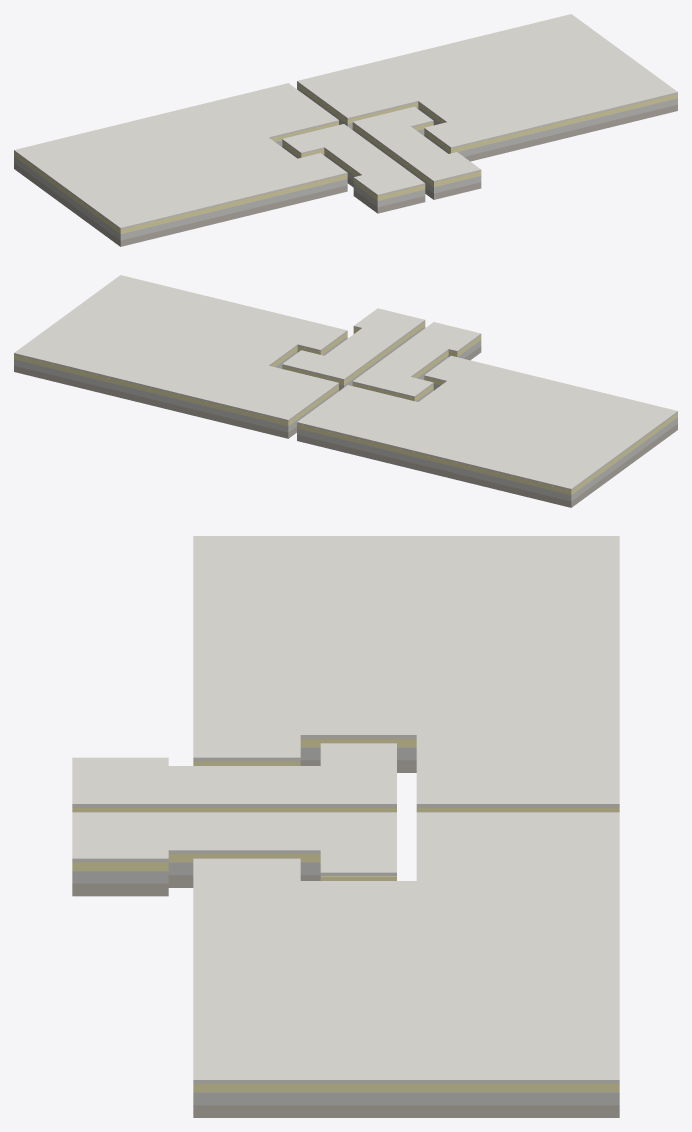
Rendered from stage-2.glb.
3 renders of one model, top to bottom at view 1: azimuth 30°, elevation 25°; view 2: azimuth 150°, elevation 25°; view 3: azimuth 270°, elevation 25°, orthographic. The views are drawn at different scales.
Visible parts, largest first — view 1: Geom3D (×4); view 2: Geom3D (×4); view 3: Geom3D (×4).
Part boxes in pixels (x1=…): Geom3D (×4): x1=14, y1=14, x2=677, y2=246; Geom3D (×4): x1=14, y1=275, x2=677, y2=507; Geom3D (×4): x1=72, y1=536, x2=619, y2=1117.
Bounding box in the file's own units: 18.52 × 0.6006 × 7.87.
